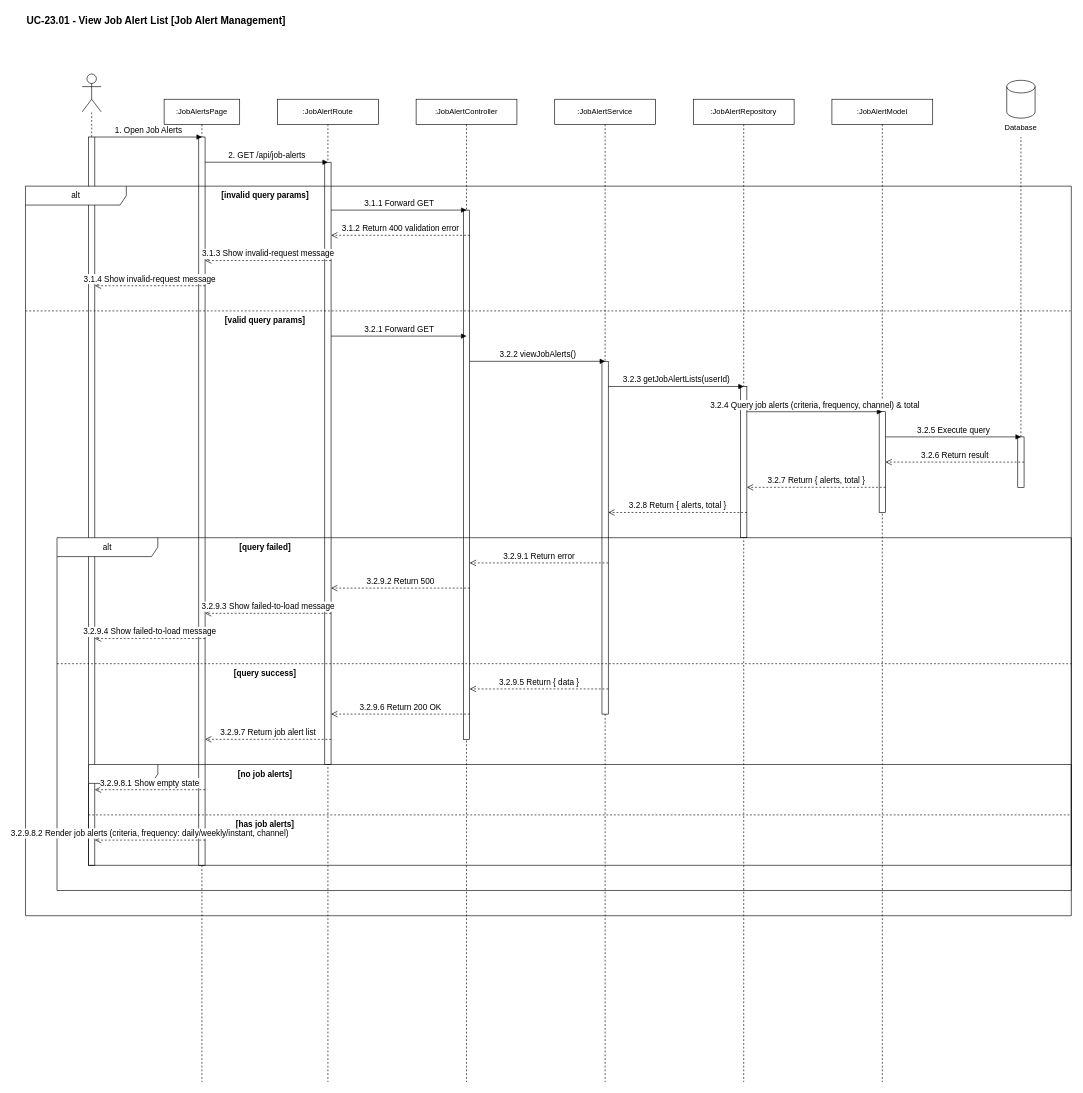
Image size: 1083x1093. Some labels were removed from this diagram. Each missing label, with the box of its shape:
Freelancer: (82, 73, 101, 112)
opt: (88, 764, 1071, 865)
